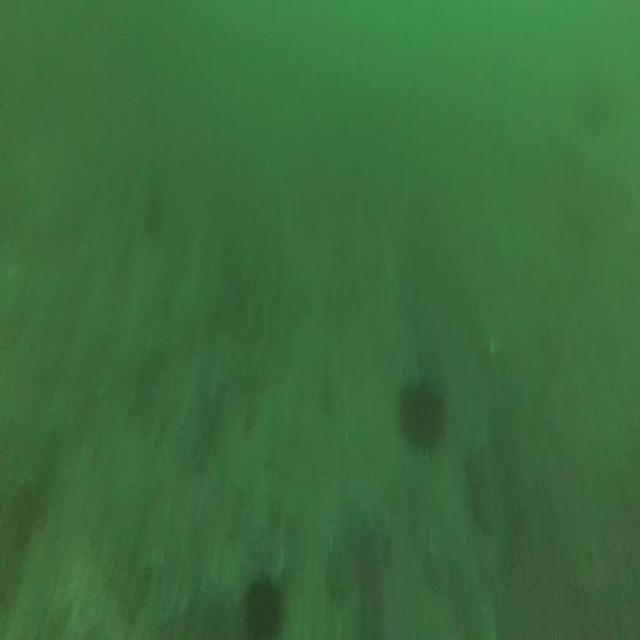echinus: (391, 366, 455, 462), (239, 559, 285, 640)
